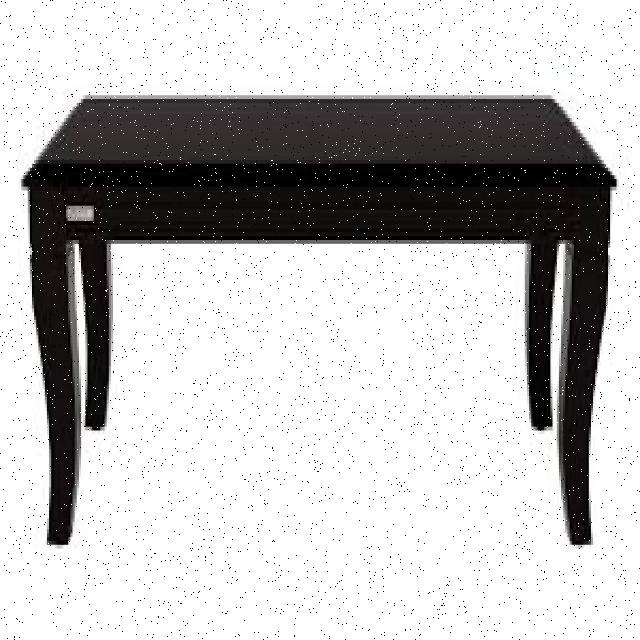mobile-phone: (18, 90, 614, 552)
